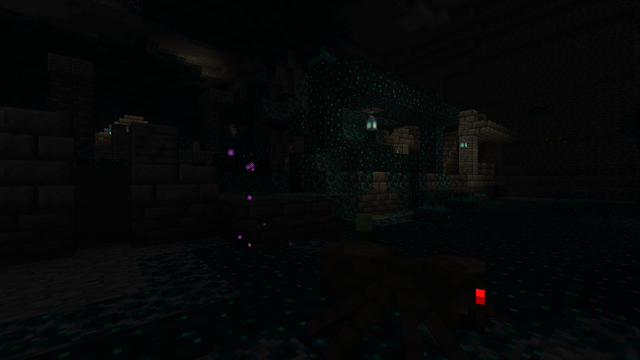araignees: (316, 229, 505, 359)
slimes: (352, 212, 374, 230)
